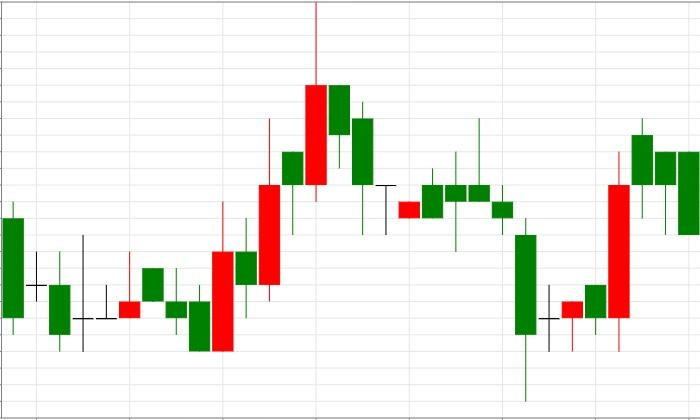bullish_engulfing_rise: (143, 201, 234, 352)
